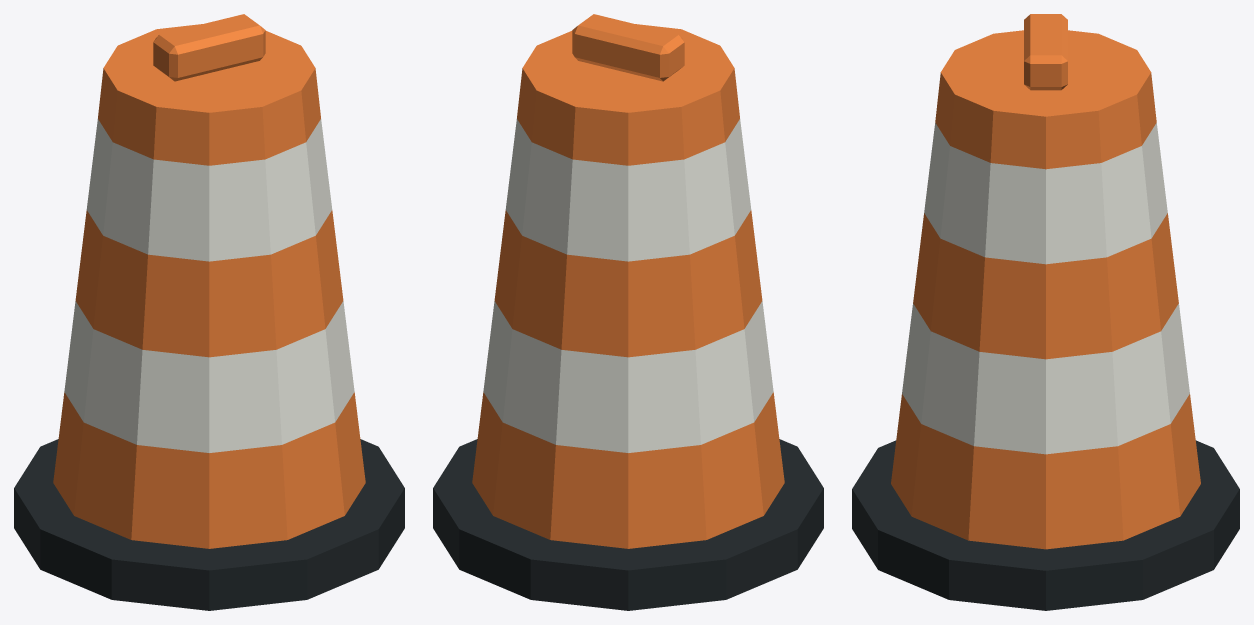
The model's file is Traffic_Drum.glb.
The picture shows the model from 3 angles, left to right: view 1: azimuth 30°, elevation 25°; view 2: azimuth 150°, elevation 25°; view 3: azimuth 270°, elevation 25°; orthographic projection.
Parts seen in each view (by area): view 1: Traffic_Drum; view 2: Traffic_Drum; view 3: Traffic_Drum.
Boxes of the visible parts, bbox=[...] form: Traffic_Drum: bbox=[14, 14, 404, 610]; Traffic_Drum: bbox=[433, 14, 823, 610]; Traffic_Drum: bbox=[852, 14, 1239, 610].
Size of the model in its own units: 0.7 by 0.985 by 0.7.
